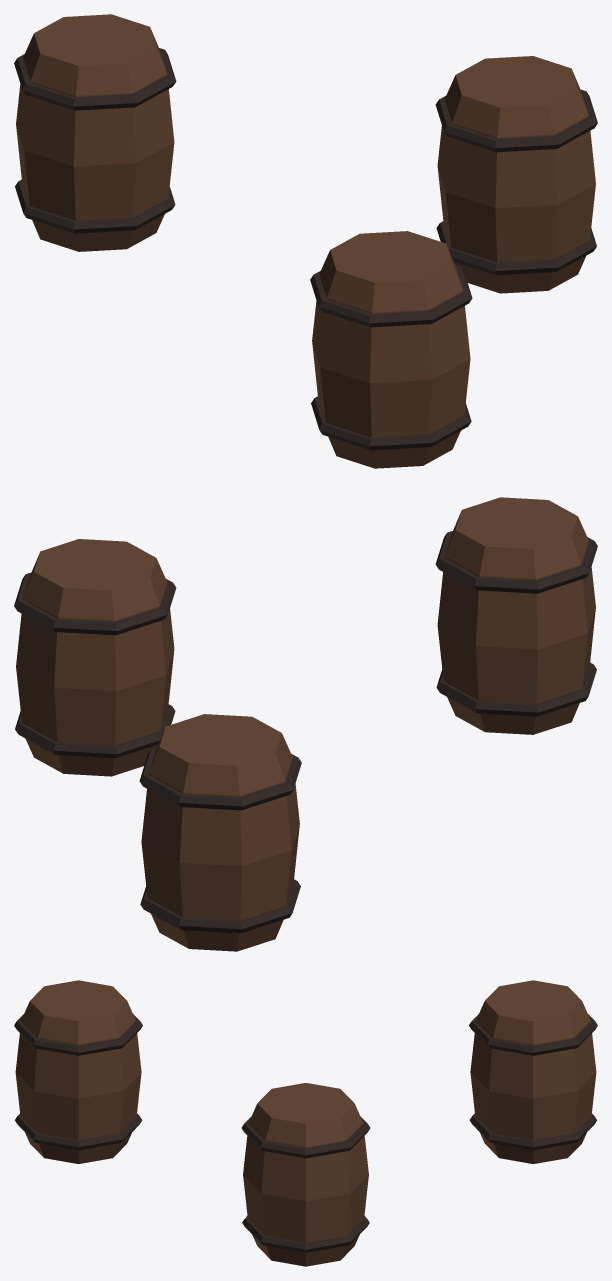
The model's file is PirateCove_BarrelChicane_Simple.glb.
The picture shows the model from 3 angles, top to bottom: view 1: azimuth 30°, elevation 25°; view 2: azimuth 150°, elevation 25°; view 3: azimuth 270°, elevation 25°; orthographic projection. The views are drawn at different scales.
Parts seen in each view (by area): view 1: PirateCove_BarrelChicane_Simple; view 2: PirateCove_BarrelChicane_Simple; view 3: PirateCove_BarrelChicane_Simple.
Boxes of the visible parts, x1,y1,x2,y2 form: PirateCove_BarrelChicane_Simple: (14,14,597,468); PirateCove_BarrelChicane_Simple: (14,497,597,951); PirateCove_BarrelChicane_Simple: (14,980,597,1266).
Size of the model in its own units: 2.21 by 0.935 by 3.47.
